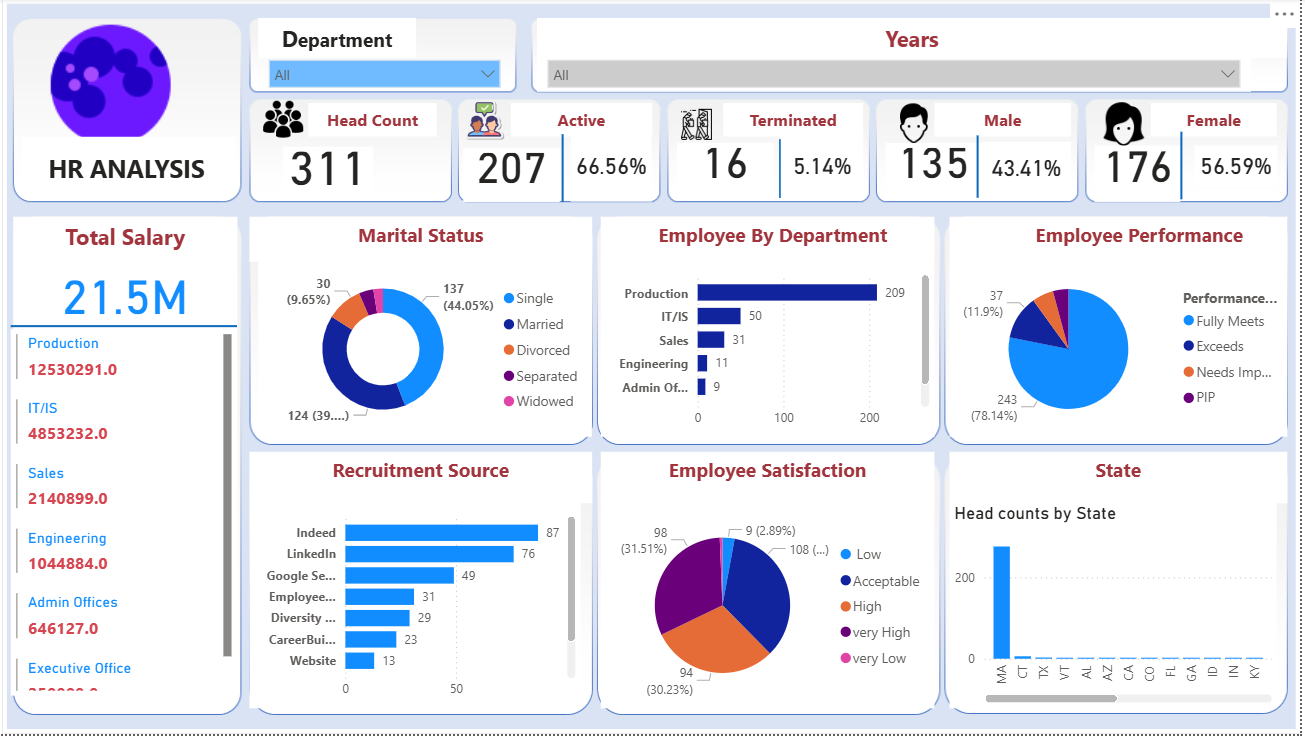

The page's visual inventory and layout, read from the dashboard file:
{"tool":"powerbi","page":{"name":"Page 1","canvas":[1280,720],"ordinal":0},"visuals":[{"type":"image","box":[9.5,0,1270.5,720.2],"z":0},{"type":"image","box":[30.3,9.8,171.2,150.4],"z":1000},{"type":"textbox","box":[29.9,135.8,209.9,48],"z":2000},{"type":"textbox","box":[260.2,19.6,154.1,39.1],"z":3000},{"type":"textbox","box":[30.3,145.5,201.8,48.9],"z":4000},{"type":"textbox","box":[20.8,214,218.9,57.5],"z":5000},{"type":"textbox","box":[532.8,19.6,733.7,39.1],"z":6000},{"type":"textbox","box":[251.9,214,335.1,44],"z":7000},{"type":"textbox","box":[595.5,214,326.5,44],"z":8000},{"type":"textbox","box":[936.7,214,330.2,44],"z":9000},{"type":"textbox","box":[251.9,443.9,335.1,50.1],"z":10000},{"type":"textbox","box":[595.5,443.9,326.5,50.1],"z":11000},{"type":"textbox","box":[936.7,443.9,330.2,50.1],"z":12000},{"type":"image","box":[260.2,91.7,48.9,53.8],"z":13000},{"type":"image","box":[455.8,91.7,51.4,53.8],"z":14000},{"type":"image","box":[662.8,102.7,52.6,41.6],"z":15000},{"type":"image","box":[1063.6,95.4,86.8,56.3],"z":16000},{"type":"image","box":[866.7,96.6,69.7,52.6],"z":17000},{"type":"slicer","fields":{"Values":["HRData (1).Department"]},"box":[260.2,50.1,247,41.6],"z":18000},{"type":"slicer","fields":{"Values":["HRData (1).Hiring date"]},"box":[532.8,50.1,698.2,41.6],"z":19000},{"type":"textbox","box":[309.1,102.7,126,33],"z":20000},{"type":"textbox","box":[507.2,102.7,138.2,33],"z":21000},{"type":"textbox","box":[1133.3,102.7,123.5,33],"z":22000},{"type":"textbox","box":[715.1,102.7,137,33],"z":23000},{"type":"textbox","box":[921.7,102.7,133.3,33],"z":24000},{"type":"card","fields":{"Values":["HRData (1).Head counts"]},"box":[284.6,145.5,88,52.6],"z":25000},{"type":"card","fields":{"Values":["HRData (1).Active"]},"box":[460.7,146.7,94.2,52.6],"z":26000},{"type":"card","fields":{"Values":["HRData (1).Active %"]},"box":[566.2,129.6,79.5,69.7],"z":27000},{"type":"shape","box":[545.4,133.3,25.7,66],"z":28000},{"type":"card","fields":{"Values":["HRData (1).Terminated"]},"box":[670.1,141.8,94.2,52.6],"z":29000},{"type":"card","fields":{"Values":["HRData (1).MALE"]},"box":[874.3,141.8,94.2,52.6],"z":30000},{"type":"card","fields":{"Values":["HRData (1).FEMALE"]},"box":[1078.5,144.3,84.4,55],"z":31000},{"type":"shape","box":[755.7,138.2,30.6,57.5],"z":32000},{"type":"shape","box":[951.4,134.5,25.7,61.1],"z":33000},{"type":"shape","box":[1150.7,130.8,25.7,66],"z":34000},{"type":"card","fields":{"Values":["HRData (1).terminated %"]},"box":[771.6,133.3,80.7,62.4],"z":35000},{"type":"card","fields":{"Values":["HRData (1).MALE %"]},"box":[968.5,140.6,86.8,51.4],"z":36000},{"type":"card","fields":{"Values":["HRData (1).FEMALE %"]},"box":[1176.4,144.3,80.7,40.4],"z":37000},{"type":"donutChart","fields":{"Y":["HRData (1).Head counts"],"Category":["HRData (1).MaritalStatus"]},"box":[260.5,258,326.5,171.2],"z":38000},{"type":"clusteredBarChart","fields":{"Y":["HRData (1).Head counts"],"Category":["HRData (1).Department"]},"box":[595.5,258,326.5,171.2],"z":39000},{"type":"pieChart","fields":{"Y":["HRData (1).Head counts"],"Category":["HRData (1).PerformanceScore"]},"box":[936.7,258,330.2,171.2],"z":40000},{"type":"clusteredBarChart","fields":{"Y":["HRData (1).Head counts"],"Category":["HRData (1).RecruitmentSource"]},"box":[251.9,494,324.1,200.5],"z":41000},{"type":"pieChart","fields":{"Y":["HRData (1).Head counts"],"Series":["HRData (1).Satifaction Status"]},"box":[595.5,494,326.5,200.5],"z":42000},{"type":"clusteredColumnChart","fields":{"Category":["HRData (1).State"],"Y":["HRData (1).Head counts"]},"box":[936.7,494,320.4,200.5],"z":43000},{"type":"card","fields":{"Values":["HRData (1).salaries"]},"box":[20.8,271.5,218.9,52.6],"z":44000},{"type":"shape","box":[18.3,298.4,221.3,45.2],"z":45000},{"type":"multiRowCard","fields":{"Values":["HRData (1).salaries","HRData (1).Department"]},"box":[18.3,324.1,221.3,358.3],"z":46000}]}

Visuals, with their boxes in screenshot pixels (x1, y1, x2, y2), scaled from the page's 1280x720 canvas onto the 1305x736 screenshot:
image: 10:0:1304:735
image: 31:10:205:164
textbox: 30:139:244:188
textbox: 265:20:422:60
textbox: 31:149:237:199
textbox: 21:219:244:278
textbox: 543:20:1291:60
textbox: 257:219:598:264
textbox: 607:219:940:264
textbox: 955:219:1292:264
textbox: 257:454:598:505
textbox: 607:454:940:505
textbox: 955:454:1292:505
image: 265:94:315:149
image: 465:94:517:149
image: 676:105:729:148
image: 1084:98:1173:155
image: 884:99:955:153
slicer - HRData (1).Department: 265:51:517:94
slicer - HRData (1).Hiring date: 543:51:1255:94
textbox: 315:105:444:139
textbox: 517:105:658:139
textbox: 1155:105:1281:139
textbox: 729:105:869:139
textbox: 940:105:1076:139
card - HRData (1).Head counts: 290:149:380:203
card - HRData (1).Active: 470:150:566:204
card - HRData (1).Active %: 577:132:658:204
shape: 556:136:582:204
card - HRData (1).Terminated: 683:145:779:199
card - HRData (1).MALE: 891:145:987:199
card - HRData (1).FEMALE: 1100:148:1186:204
shape: 770:141:802:200
shape: 970:137:996:200
shape: 1173:134:1199:201
card - HRData (1).terminated %: 787:136:869:200
card - HRData (1).MALE %: 987:144:1076:196
card - HRData (1).FEMALE %: 1199:148:1282:189
donutChart - HRData (1).Head counts x HRData (1).MaritalStatus: 266:264:598:439
clusteredBarChart - HRData (1).Head counts x HRData (1).Department: 607:264:940:439
pieChart - HRData (1).Head counts x HRData (1).PerformanceScore: 955:264:1292:439
clusteredBarChart - HRData (1).Head counts x HRData (1).RecruitmentSource: 257:505:587:710
pieChart - HRData (1).Head counts x HRData (1).Satifaction Status: 607:505:940:710
clusteredColumnChart - HRData (1).State x HRData (1).Head counts: 955:505:1282:710
card - HRData (1).salaries: 21:278:244:331
shape: 19:305:244:351
multiRowCard - HRData (1).salaries x HRData (1).Department: 19:331:244:698
